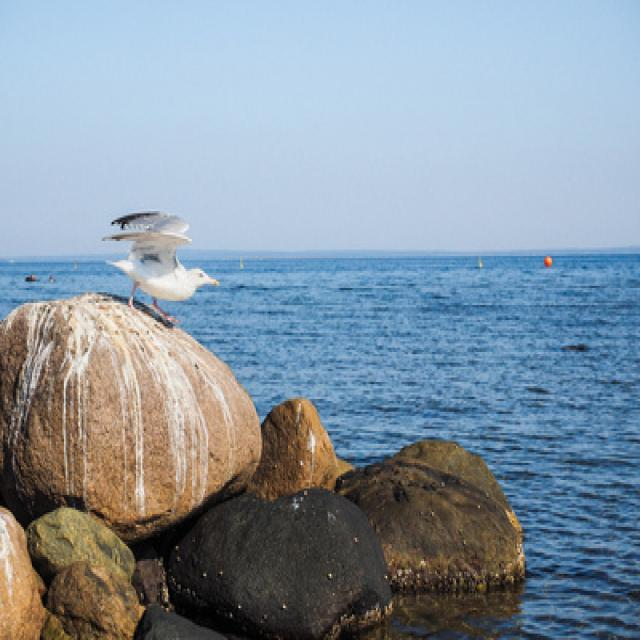reef: (240, 336, 525, 628)
